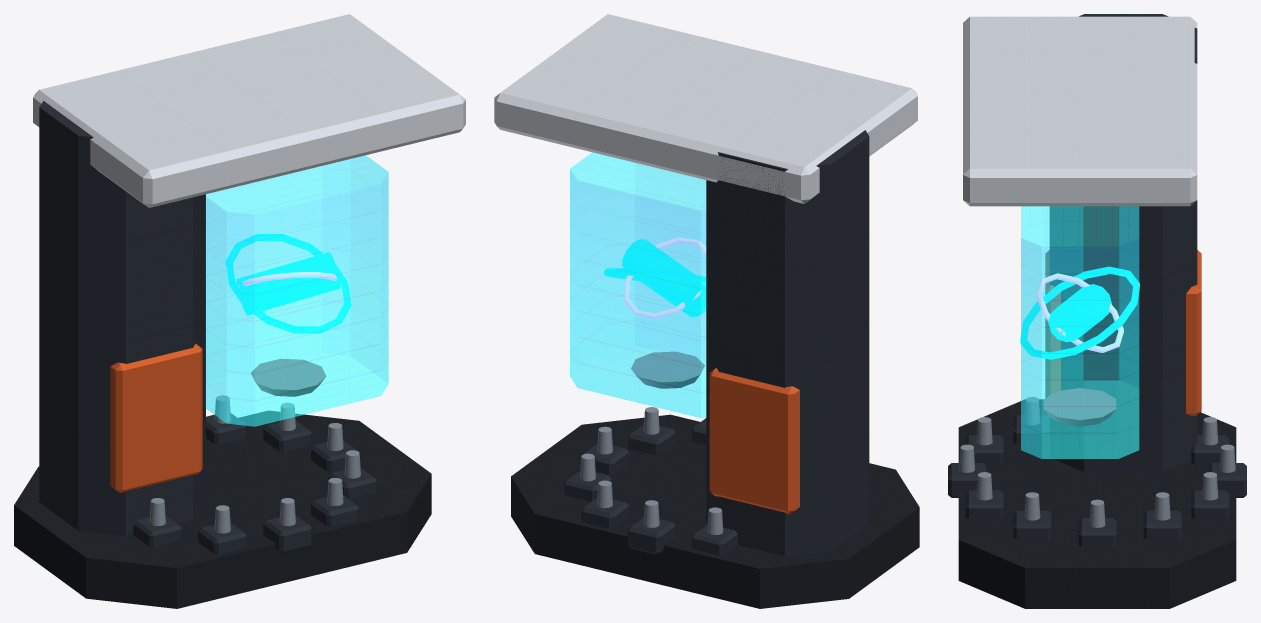
File: prop_02_r1_05.glb
3 views of the same model, side by side, from view 1: azimuth 30°, elevation 25°; view 2: azimuth 150°, elevation 25°; view 3: azimuth 270°, elevation 25° (orthographic). The views are drawn at different scales.
Parts seen in each view (by area): view 1: Prop02_C05_carbon_slate, Prop02_C05_aero_white, Prop02_C05_glass_cyan, Prop02_C05_gunmetal, Prop02_C05_accent_orange, Prop02_C05_steel_machined, Prop02_C05_led_cyan, Prop02_C05_led_uv; view 2: Prop02_C05_carbon_slate, Prop02_C05_aero_white, Prop02_C05_gunmetal, Prop02_C05_glass_cyan, Prop02_C05_accent_orange, Prop02_C05_steel_machined, Prop02_C05_led_cyan, Prop02_C05_led_uv; view 3: Prop02_C05_aero_white, Prop02_C05_carbon_slate, Prop02_C05_gunmetal, Prop02_C05_glass_cyan, Prop02_C05_steel_machined, Prop02_C05_led_cyan, Prop02_C05_accent_orange, Prop02_C05_led_uv.
Boxes of the visible parts, bbox=[...] form: Prop02_C05_carbon_slate: bbox=[39, 101, 376, 554]; Prop02_C05_aero_white: bbox=[33, 14, 465, 207]; Prop02_C05_glass_cyan: bbox=[206, 155, 388, 426]; Prop02_C05_gunmetal: bbox=[14, 411, 431, 608]; Prop02_C05_accent_orange: bbox=[110, 343, 202, 492]; Prop02_C05_steel_machined: bbox=[149, 358, 360, 533]; Prop02_C05_led_cyan: bbox=[226, 234, 350, 333]; Prop02_C05_led_uv: bbox=[238, 272, 336, 287]; Prop02_C05_carbon_slate: bbox=[564, 130, 869, 556]; Prop02_C05_aero_white: bbox=[494, 14, 917, 203]; Prop02_C05_gunmetal: bbox=[511, 414, 919, 608]; Prop02_C05_glass_cyan: bbox=[570, 152, 706, 417]; Prop02_C05_accent_orange: bbox=[709, 368, 799, 514]; Prop02_C05_steel_machined: bbox=[580, 351, 723, 534]; Prop02_C05_led_cyan: bbox=[603, 239, 706, 316]; Prop02_C05_led_uv: bbox=[624, 237, 706, 318]; Prop02_C05_aero_white: bbox=[963, 16, 1197, 206]; Prop02_C05_carbon_slate: bbox=[948, 14, 1246, 546]; Prop02_C05_gunmetal: bbox=[958, 399, 1236, 608]; Prop02_C05_glass_cyan: bbox=[1021, 206, 1139, 458]; Prop02_C05_steel_machined: bbox=[959, 388, 1235, 527]; Prop02_C05_led_cyan: bbox=[1020, 266, 1139, 359]; Prop02_C05_accent_orange: bbox=[1045, 250, 1201, 415]; Prop02_C05_led_uv: bbox=[1036, 273, 1123, 352].
Bounding box in the file's own units: 2.35 × 2.8 × 1.72.
8 materials, 8 textured.
